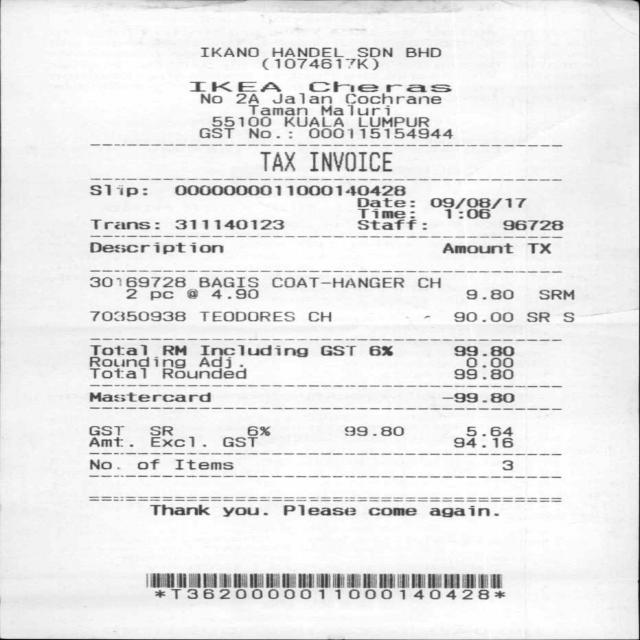text: (85, 240, 222, 256), (308, 151, 392, 172), (308, 127, 452, 139), (86, 390, 209, 404), (273, 275, 403, 288), (308, 81, 450, 92), (287, 183, 405, 196), (200, 344, 307, 358), (170, 183, 280, 196), (261, 58, 377, 70), (344, 92, 442, 105), (87, 356, 185, 369), (175, 219, 283, 230), (88, 276, 186, 288), (430, 196, 527, 208), (89, 310, 185, 322), (199, 310, 293, 322), (190, 81, 280, 92), (278, 504, 356, 516), (160, 369, 247, 379), (442, 242, 512, 254), (147, 503, 210, 516), (270, 47, 344, 58), (356, 116, 429, 127), (197, 275, 258, 288), (441, 392, 513, 403), (320, 105, 390, 116), (273, 92, 332, 105), (256, 150, 293, 170), (90, 184, 146, 197), (246, 104, 306, 116), (429, 506, 488, 518), (88, 344, 146, 356), (89, 219, 158, 229), (282, 116, 344, 127), (452, 345, 513, 356), (210, 116, 270, 127), (453, 311, 512, 322), (453, 368, 512, 379), (453, 437, 512, 448), (175, 459, 232, 470), (356, 220, 418, 230), (502, 220, 562, 230), (343, 426, 402, 436), (353, 197, 406, 208), (200, 47, 258, 57), (465, 288, 512, 300), (89, 368, 145, 378), (148, 436, 197, 447), (356, 209, 409, 219), (442, 208, 489, 219), (210, 288, 257, 299), (465, 357, 512, 368), (464, 426, 512, 436), (526, 312, 572, 322), (367, 507, 416, 516), (247, 128, 291, 138), (218, 506, 260, 516), (197, 356, 231, 368), (537, 289, 573, 300), (319, 345, 355, 356), (85, 438, 124, 448), (222, 436, 257, 447), (356, 47, 391, 57), (405, 47, 440, 57), (198, 128, 233, 138), (88, 426, 121, 436), (415, 277, 441, 289), (147, 424, 172, 436), (162, 344, 186, 356), (527, 242, 550, 254), (235, 92, 257, 104), (369, 345, 392, 356), (200, 92, 221, 104), (308, 311, 330, 322), (136, 458, 158, 469), (89, 458, 111, 469), (246, 426, 269, 436), (148, 291, 172, 300), (125, 288, 136, 299), (501, 460, 512, 470), (186, 288, 196, 298)
